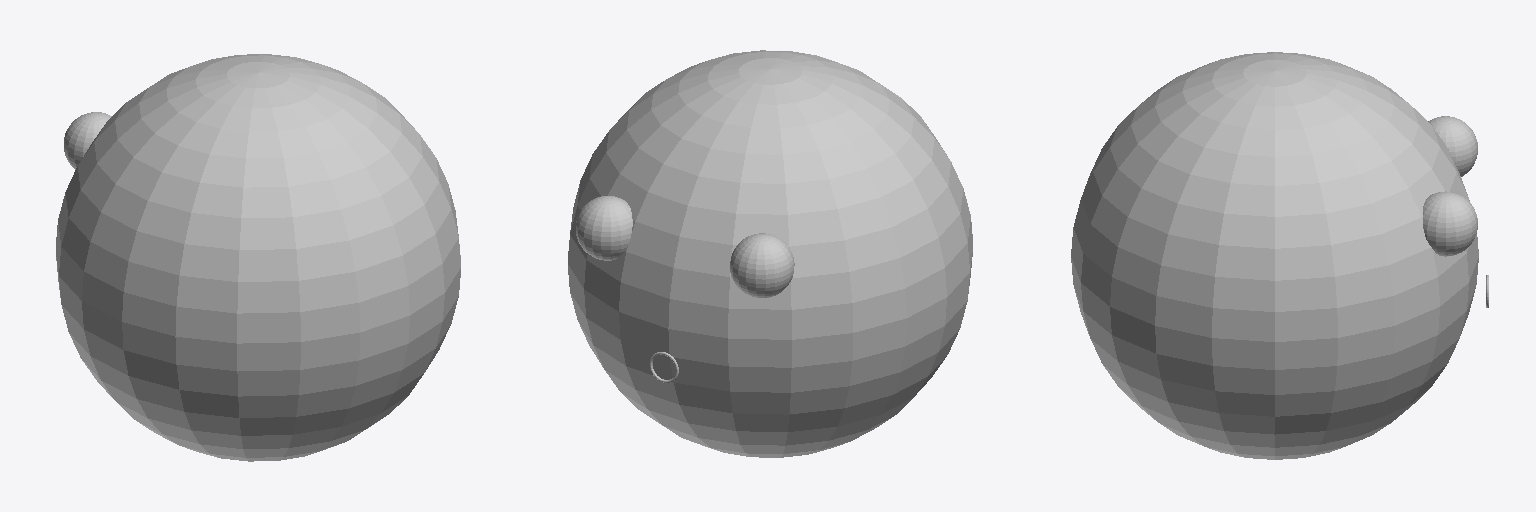
The model's file is bbbb.obj.
3 renders of one model, left to right at view 1: azimuth 30°, elevation 25°; view 2: azimuth 150°, elevation 25°; view 3: azimuth 270°, elevation 25°, orthographic.
Visible parts, largest first — view 1: pSphere1, pSphere2; view 2: pSphere1, pSphere2; view 3: pSphere1, pSphere2.
Boxes of the visible parts, box(x1,y1,x2,y2) form: pSphere1: box(56, 54, 460, 461); pSphere2: box(64, 112, 111, 169); pSphere1: box(568, 50, 972, 457); pSphere2: box(576, 196, 794, 297); pSphere1: box(1071, 52, 1478, 459); pSphere2: box(1423, 116, 1477, 256).
Size of the model in its own units: 2 by 2 by 2.05.